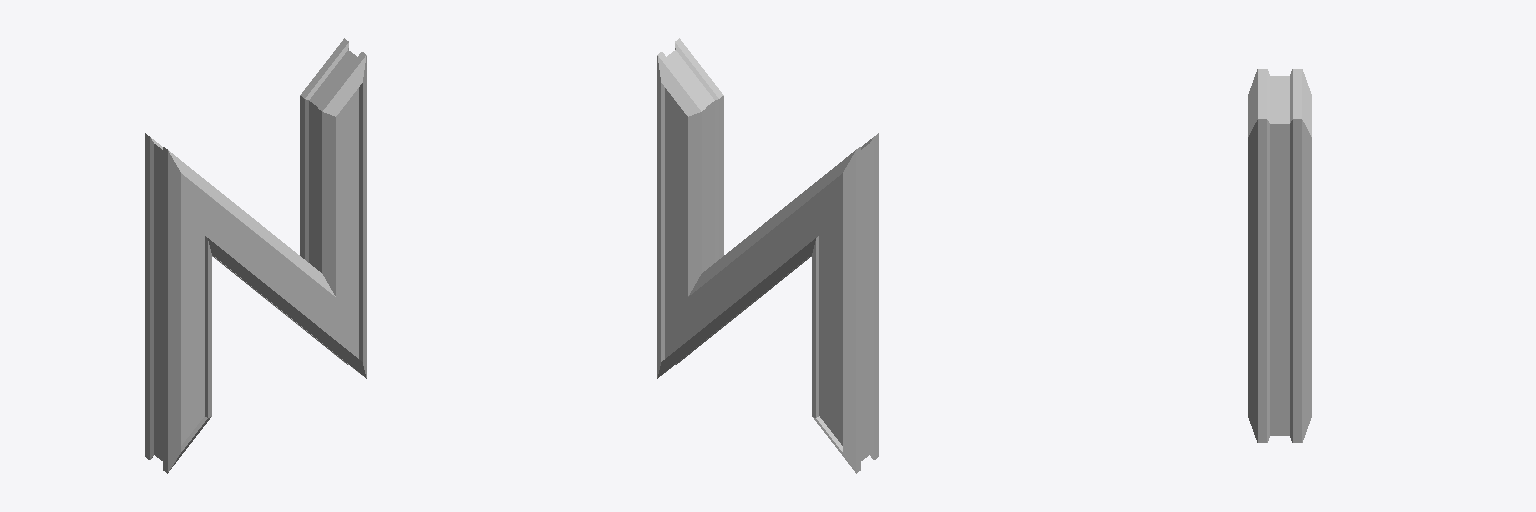
File: icon.obj
3 views of the same model, side by side, from view 1: azimuth 30°, elevation 25°; view 2: azimuth 150°, elevation 25°; view 3: azimuth 270°, elevation 25° (orthographic).
Parts seen in each view (by area): view 1: Curve.001_Mesh.002; view 2: Curve.001_Mesh.002; view 3: Curve.001_Mesh.002.
Part boxes in pixels (x1,y1,x2,y2): Curve.001_Mesh.002: (145,38,366,473); Curve.001_Mesh.002: (657,38,878,473); Curve.001_Mesh.002: (1248,69,1311,442).
Size of the model in its own units: 1.35 by 2.4 by 0.375.